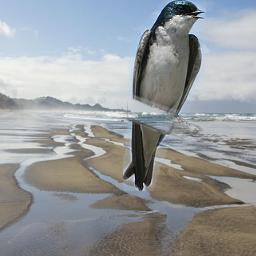Swallow: (123, 0, 206, 191)
